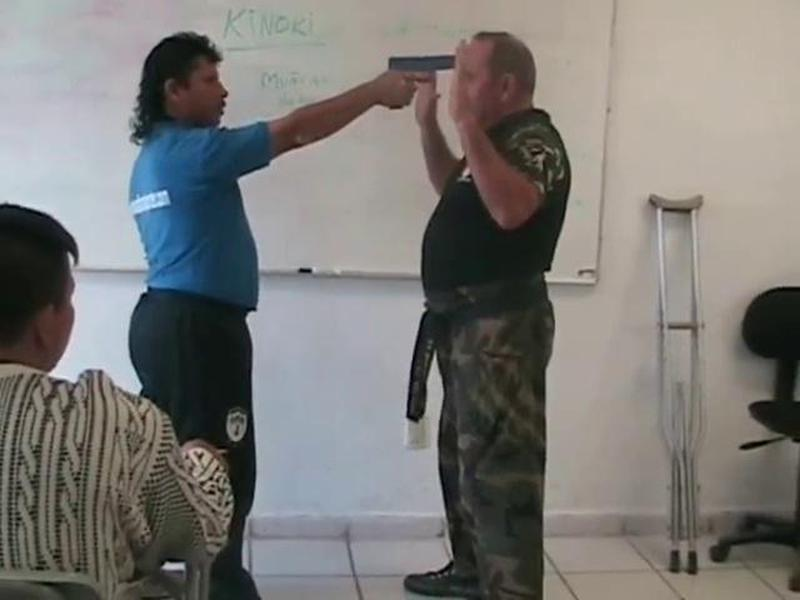Pistola: (369, 38, 463, 114)
